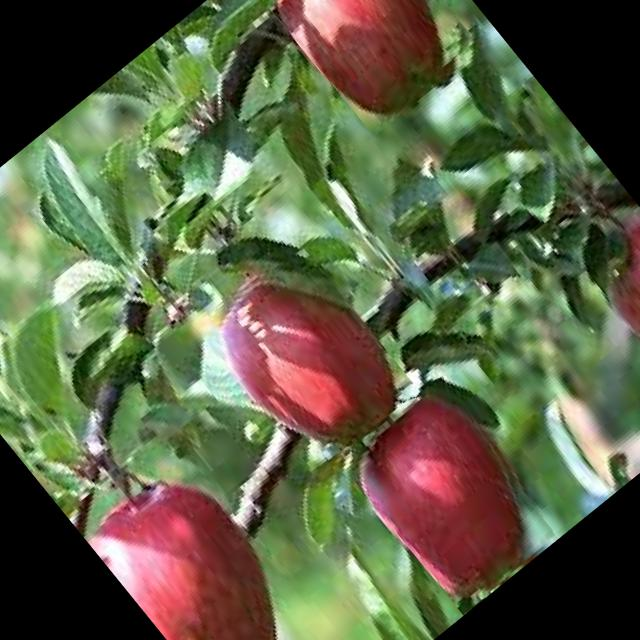Organic: (338, 376, 568, 616), (192, 238, 420, 474), (86, 454, 327, 640), (244, 0, 487, 135), (578, 209, 640, 381)
